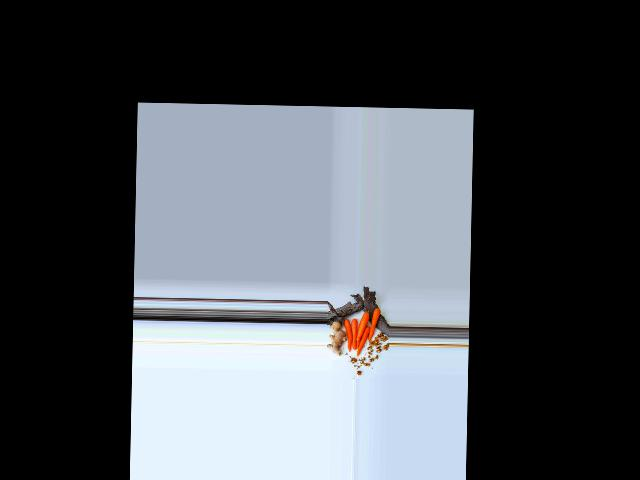carrot: (339, 317, 354, 350)
